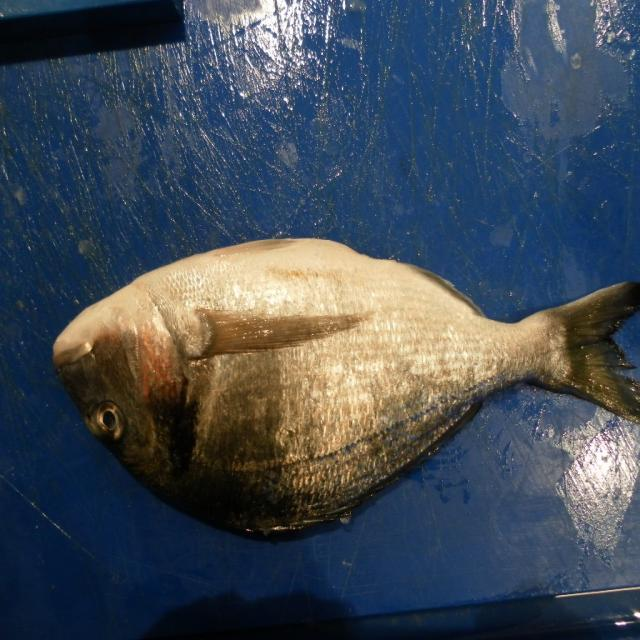Gilt-Head-Bream-c-ipura-: (52, 238, 640, 545)
